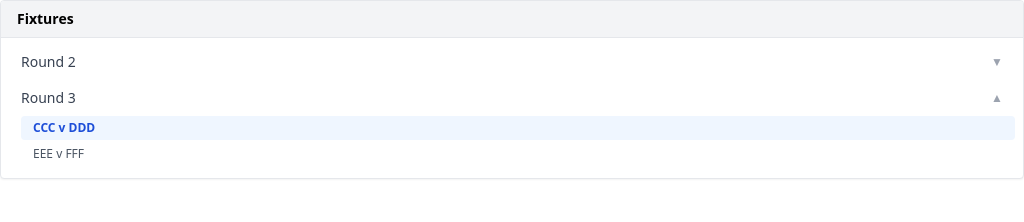
Test: ResultsSidebar › expands a collapsed round on click
Click the text "Round 2".
click(48, 62)  # box [21,52,76,72]
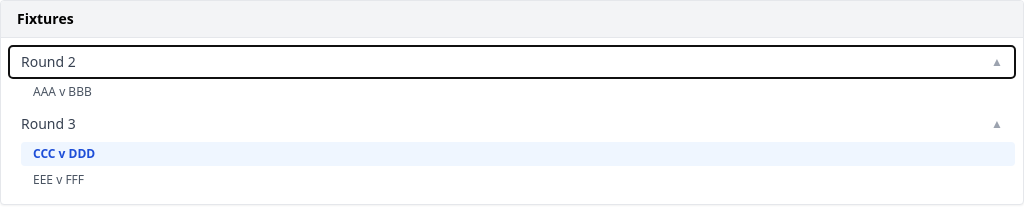
Check: the link "AAA v BBB" is shown, box [33,83,92,100]
